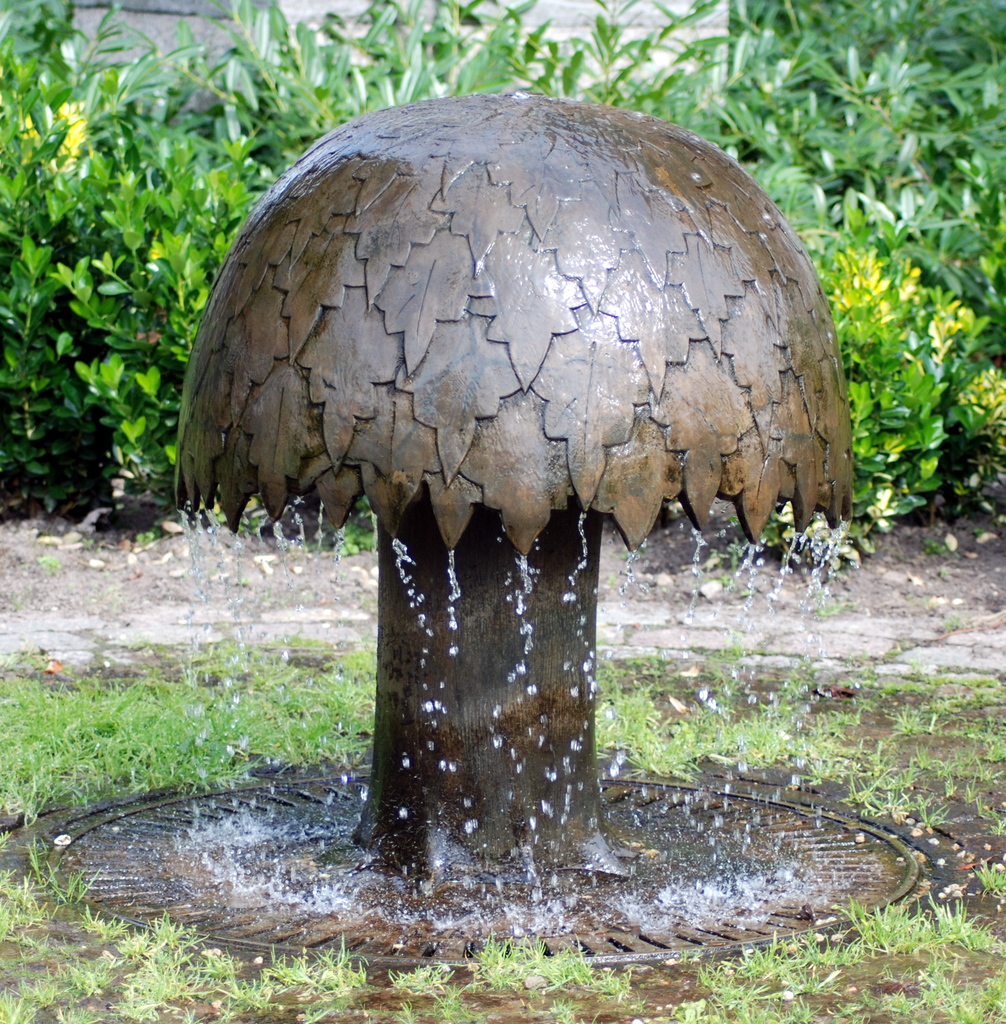Tree: (174, 91, 854, 897)
